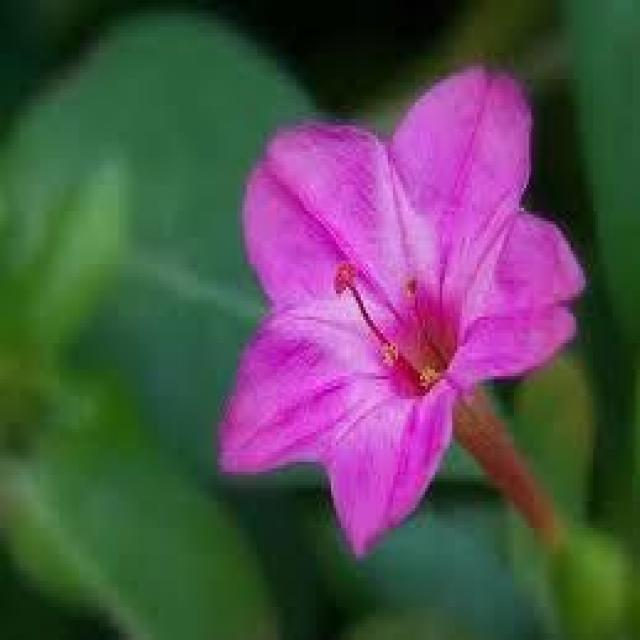organic waste: (202, 43, 600, 561)
